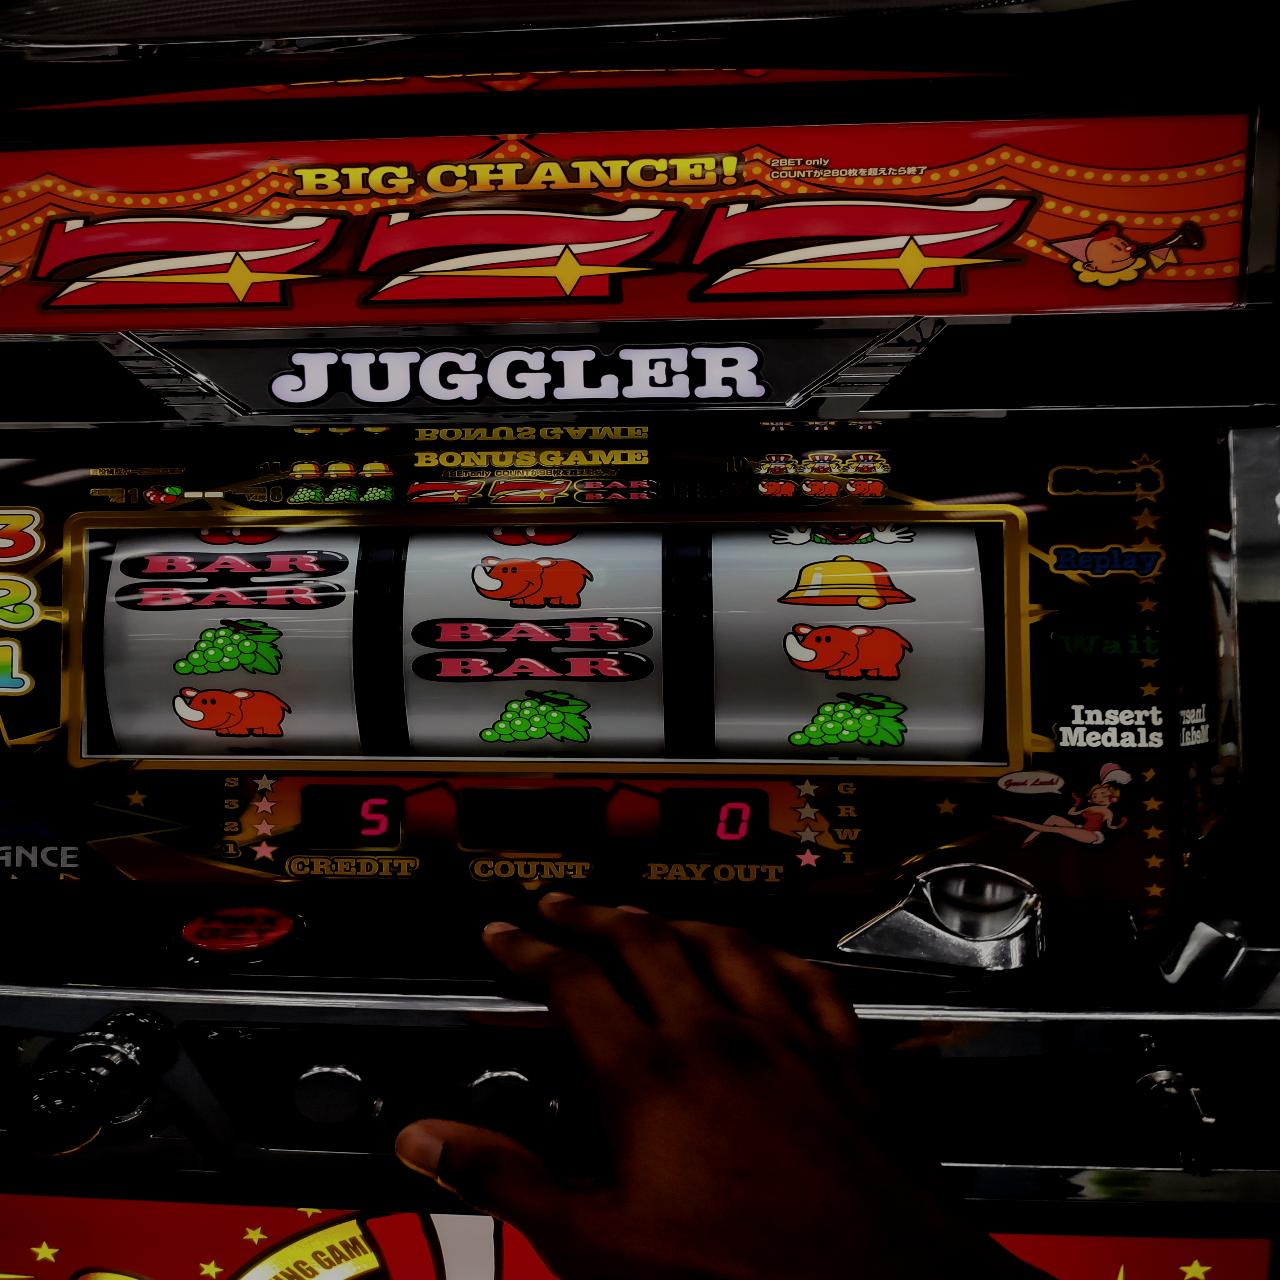8: (779, 622, 919, 681), (171, 686, 297, 738), (472, 554, 591, 610)
Display: (81, 524, 1022, 770)
bar: (410, 614, 661, 682), (122, 551, 343, 610)
bell: (776, 550, 915, 610)
grape: (169, 618, 287, 678), (788, 692, 910, 748), (478, 689, 595, 747)
